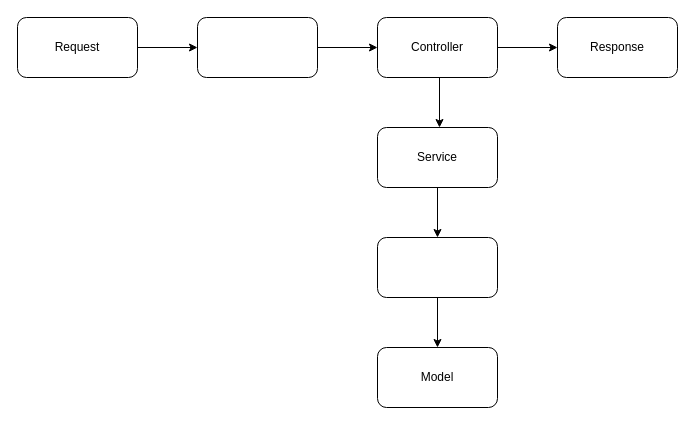
The diagram is 695 pixels wide and 425 high, and some of its shapes have lost their labels. Here are the shapes that lost their labels. From the top down, the centre of each, then its label:
At point 257,47: "DTO".
At point 437,267: "Repository".
